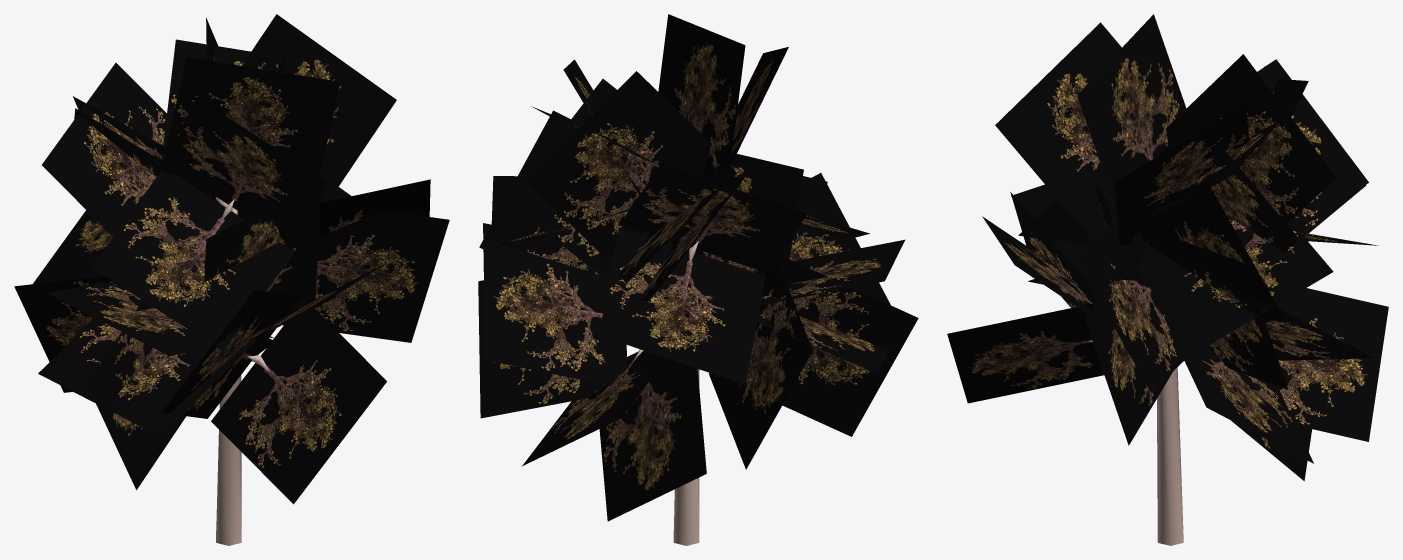
Rendered from tree14.glb.
3 renders of one model, left to right at view 1: azimuth 30°, elevation 25°; view 2: azimuth 150°, elevation 25°; view 3: azimuth 270°, elevation 25°, orthographic.
Bounding box in the file's own units: 5.63 × 7.07 × 5.65.
Materials: 2 (1 with a texture image).
